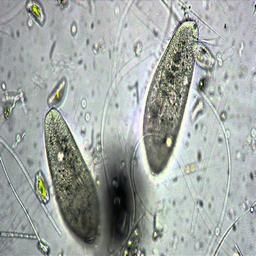Paramecium: (143, 19, 202, 174), (45, 108, 102, 244)
